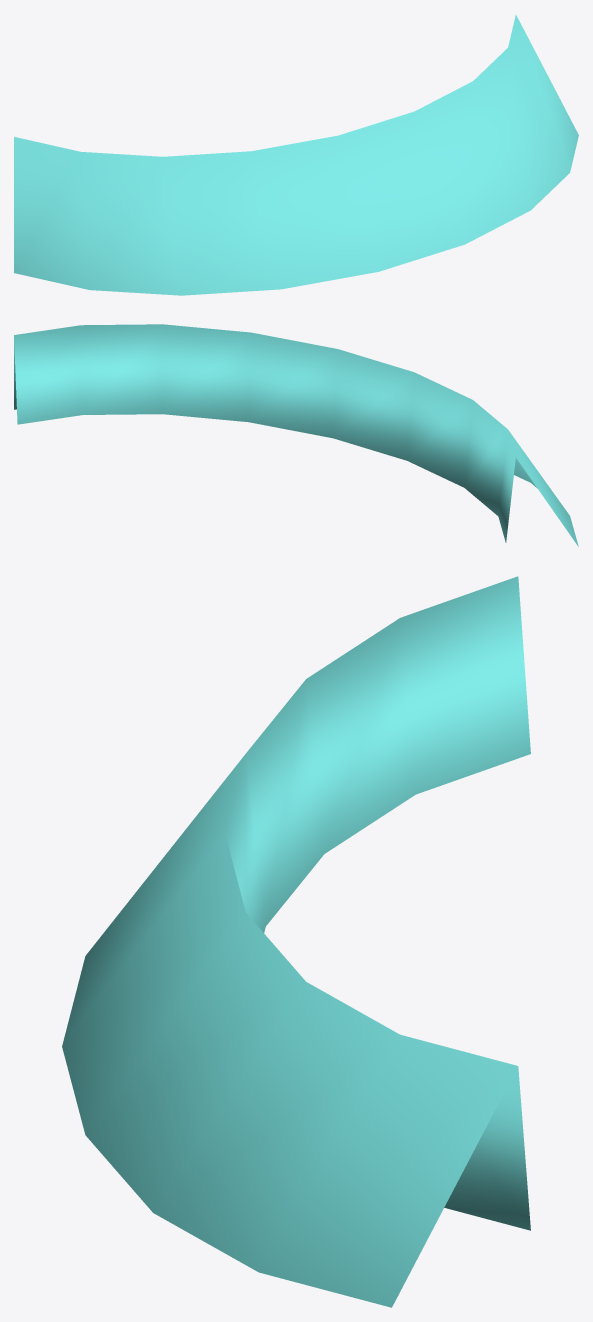
The model's file is enemy04_Shield.fbx.
3 renders of one model, top to bottom at view 1: azimuth 30°, elevation 25°; view 2: azimuth 150°, elevation 25°; view 3: azimuth 270°, elevation 25°, orthographic. The views are drawn at different scales.
Parts seen in each view (by area): view 1: pasted__pCylinder11; view 2: pasted__pCylinder11; view 3: pasted__pCylinder11.
Boxes of the visible parts, box(x1,y1,x2,y2) form: pasted__pCylinder11: box(14, 15, 578, 295); pasted__pCylinder11: box(14, 324, 578, 546); pasted__pCylinder11: box(62, 576, 530, 1307).
Size of the model in its own units: 199 by 38 by 71.6.
